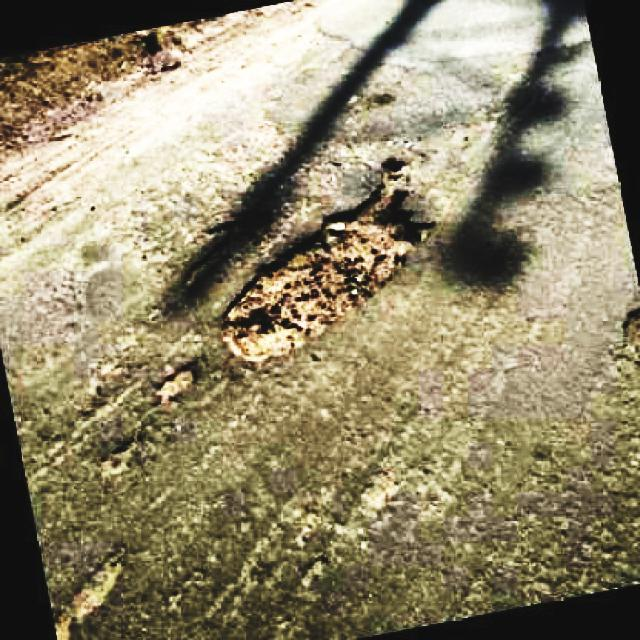pothole: (225, 156, 444, 362), (180, 206, 283, 299), (51, 551, 132, 640), (148, 358, 206, 404), (100, 442, 145, 483)
